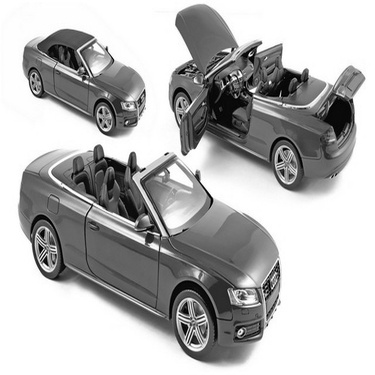car: (15, 143, 288, 366), (172, 1, 369, 193), (22, 22, 156, 139)
